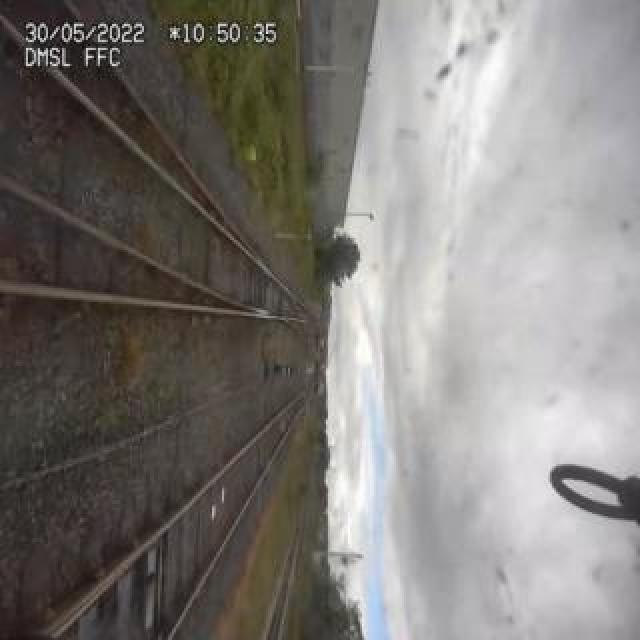rusted-track: (0, 272, 140, 324)
